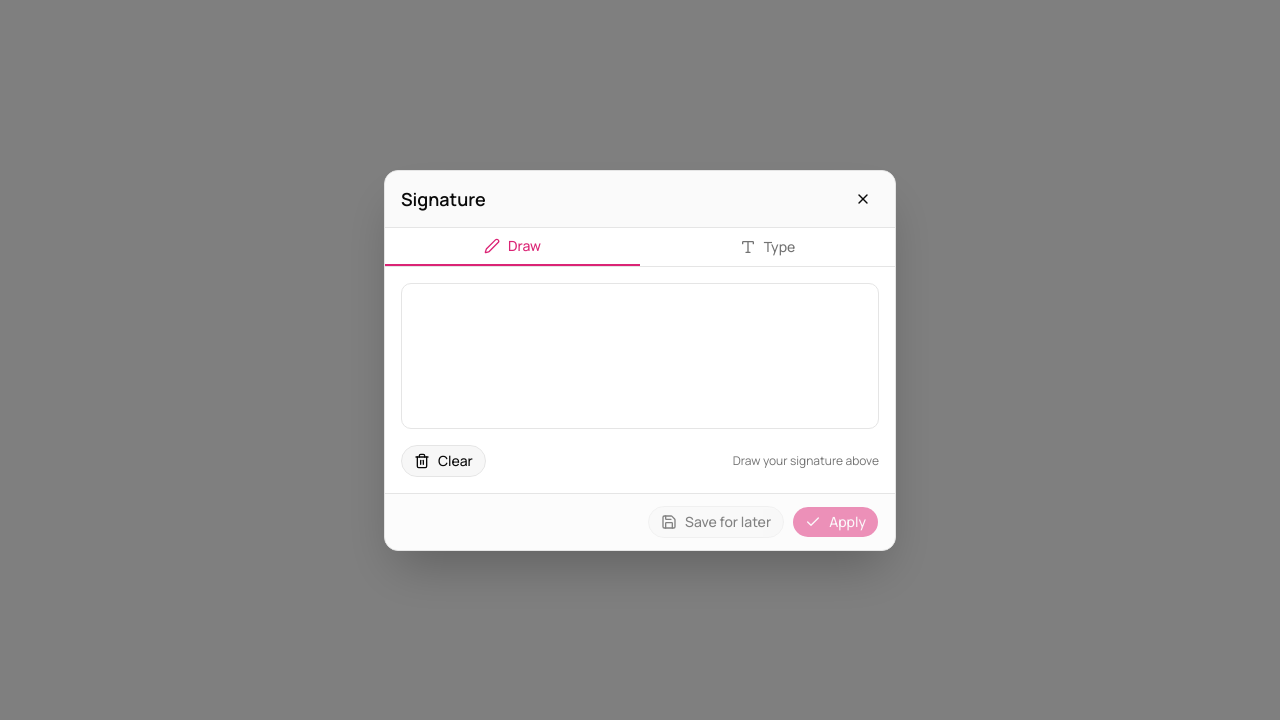
Test case: SignaturePad › should switch to Type mode when Type tab is clicked
Click the button "Type" at point(768, 246), box x1=640 y1=228 x2=895 y2=266
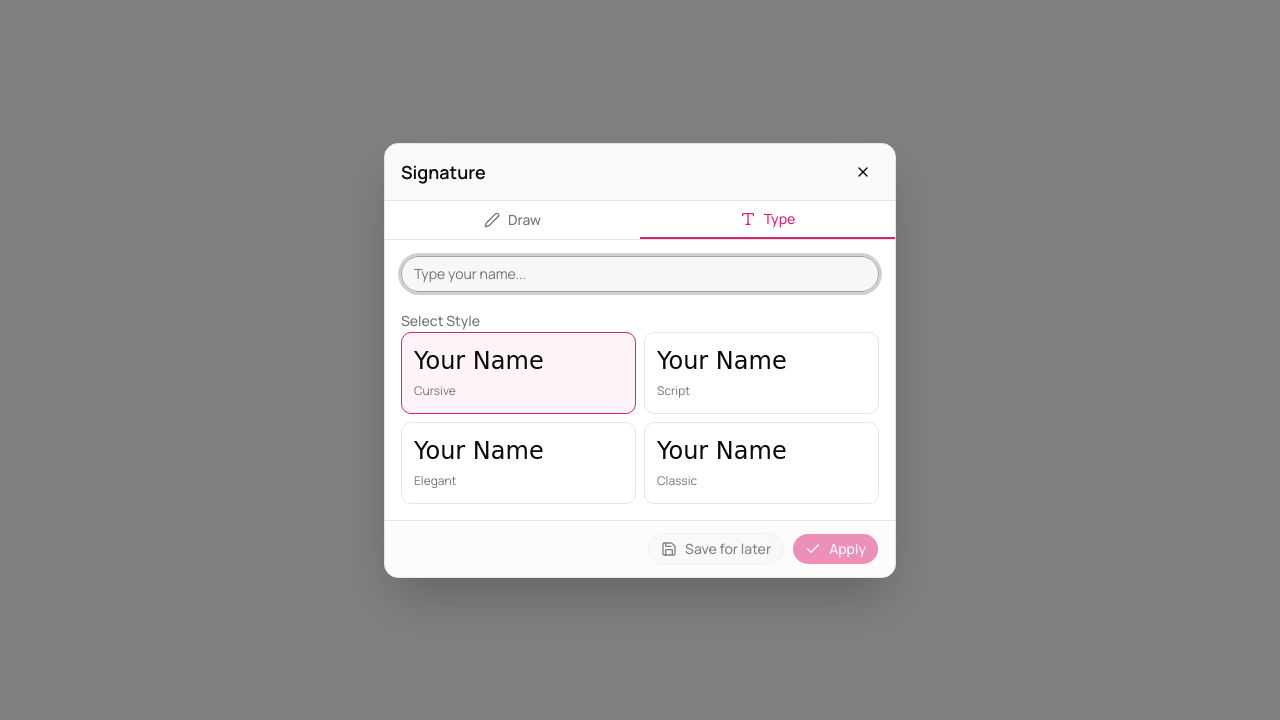
Check: the field with placeholder "Type your name..." is shown, box x1=401 y1=256 x2=879 y2=292
